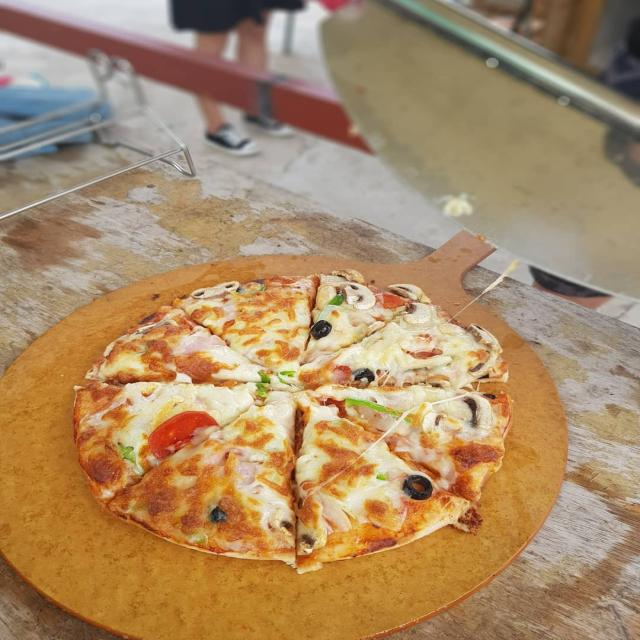black_olives: (402, 474, 433, 501), (309, 319, 333, 340), (352, 368, 376, 384), (210, 506, 227, 522)
mushrooms: (270, 508, 328, 550), (460, 393, 492, 430), (339, 281, 376, 311), (421, 412, 454, 444), (468, 323, 503, 353), (387, 282, 431, 304), (190, 280, 240, 298), (467, 350, 498, 377), (403, 302, 431, 324), (330, 268, 365, 283), (316, 285, 337, 310), (364, 320, 386, 337), (426, 378, 451, 388)
pepperoni: (147, 407, 221, 460), (321, 392, 350, 418), (373, 293, 406, 309), (402, 345, 444, 357)
pizza: (68, 268, 520, 574)
